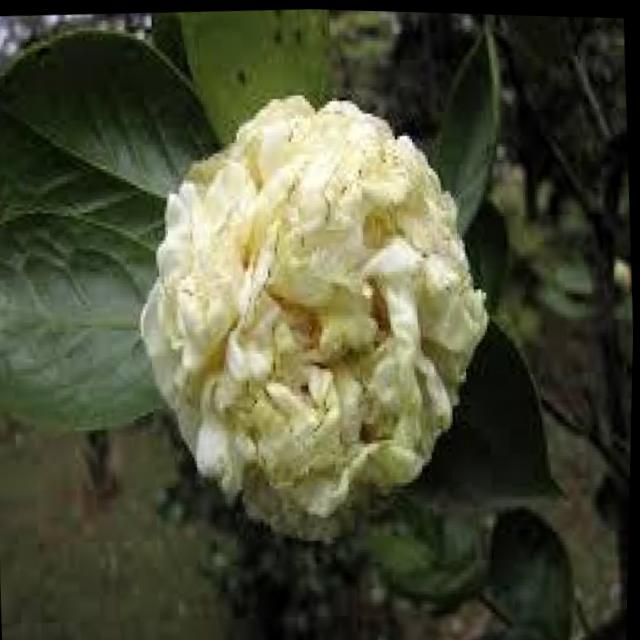Flower: (131, 91, 489, 528)
